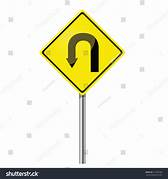back: (39, 9, 125, 95)
